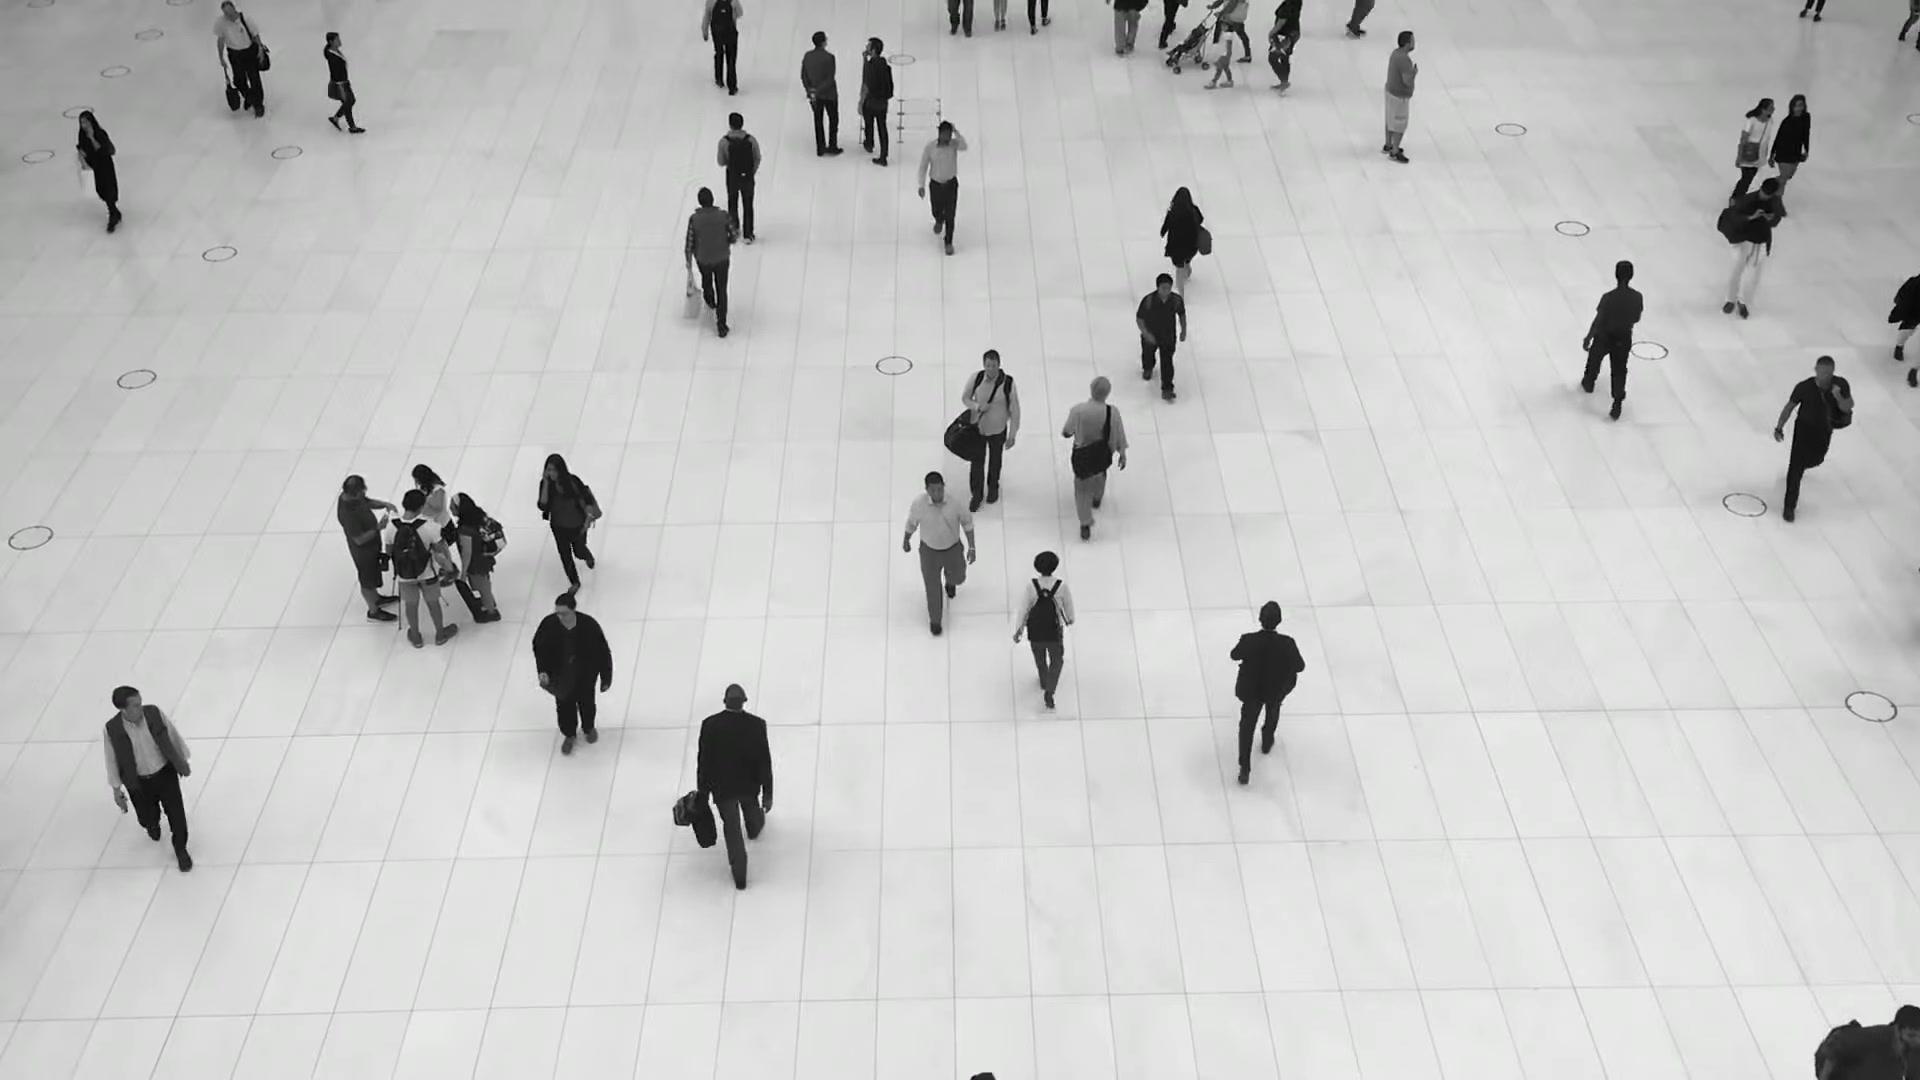person: (100, 688, 199, 888), (696, 683, 777, 886), (1222, 598, 1304, 781), (530, 596, 613, 767), (1776, 352, 1856, 514), (383, 488, 458, 649), (905, 469, 977, 636), (1059, 373, 1127, 528), (1580, 257, 1645, 409), (961, 352, 1019, 519), (336, 473, 400, 626), (1718, 179, 1783, 324), (538, 454, 603, 599), (1017, 550, 1074, 714), (683, 182, 736, 328), (448, 491, 502, 622), (915, 119, 965, 253), (211, 0, 266, 120), (1136, 270, 1189, 393), (319, 32, 383, 134), (715, 113, 763, 241), (1159, 184, 1214, 295), (411, 462, 459, 586), (76, 109, 124, 232), (1721, 98, 1774, 202), (801, 30, 842, 159), (1381, 28, 1420, 163), (856, 34, 894, 164), (700, 0, 746, 97), (1769, 93, 1810, 199), (1260, 0, 1302, 94), (1210, 19, 1234, 89)
